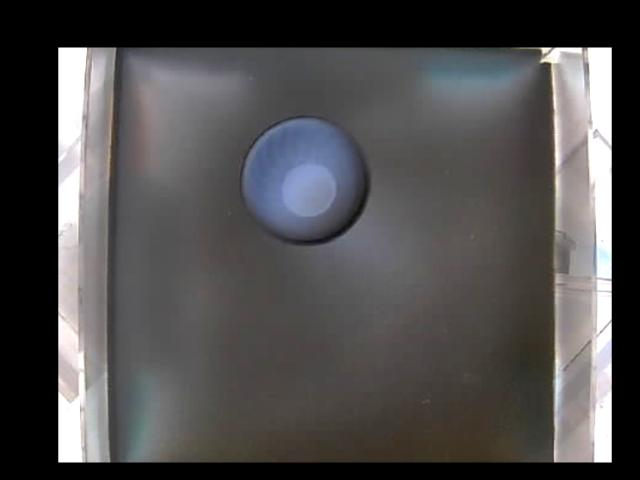Cup: (242, 115, 369, 243)
